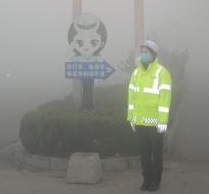person: (125, 38, 173, 191)
